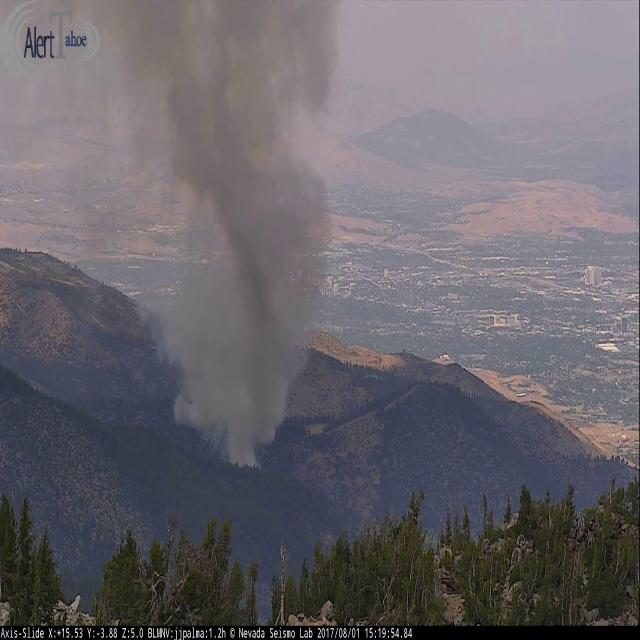smoke: (168, 0, 358, 468)
